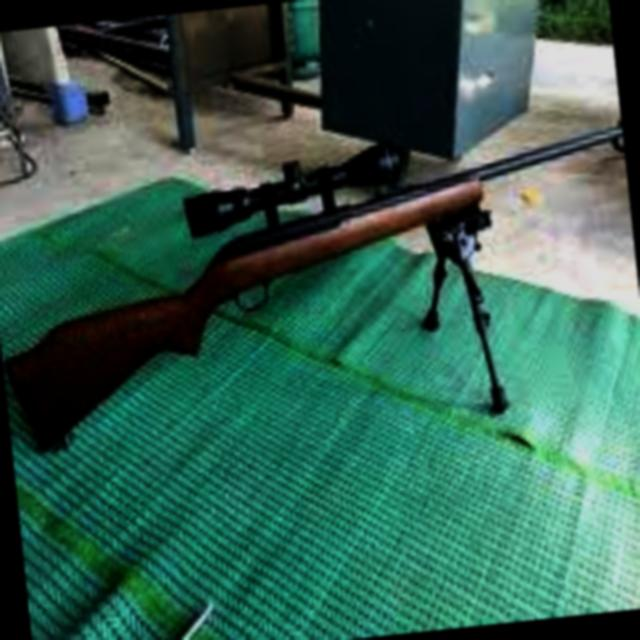rifle: (0, 91, 640, 483)
